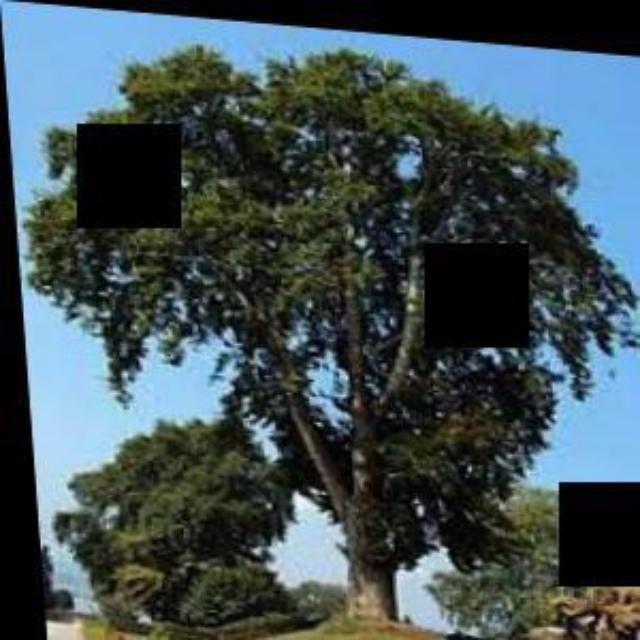tree: (2, 13, 638, 631)
